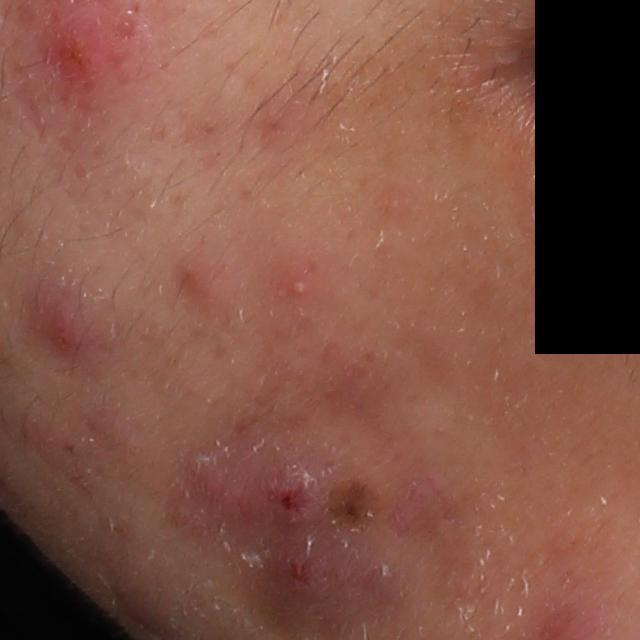nodule: (181, 423, 403, 630)
papule: (45, 6, 123, 87), (41, 309, 91, 358), (176, 252, 222, 305)
pustule: (279, 268, 322, 302)
